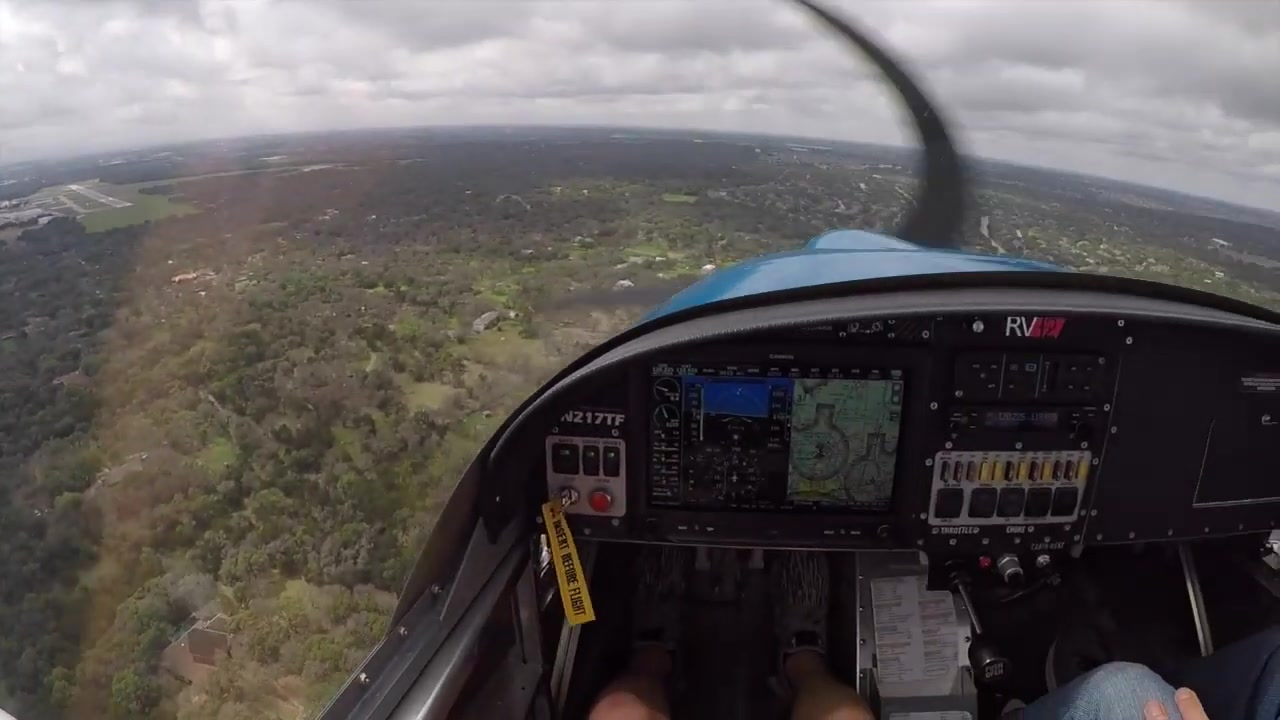runway: (66, 183, 134, 209)
